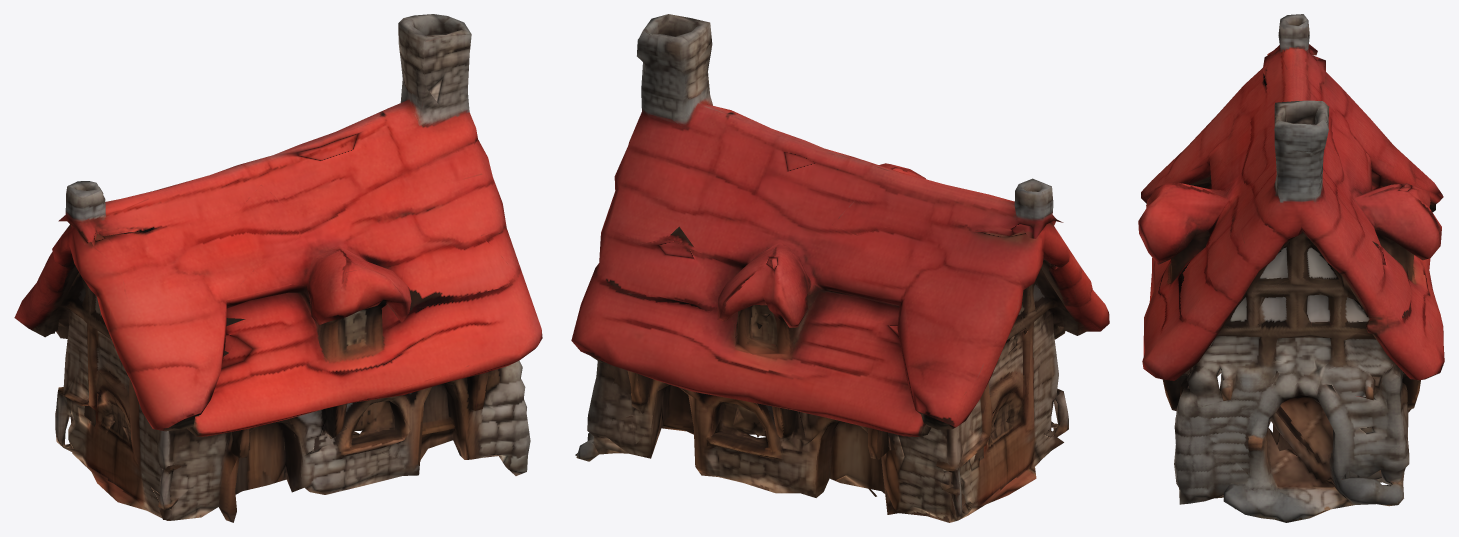
File: house1.glb
3 renders of one model, left to right at view 1: azimuth 30°, elevation 25°; view 2: azimuth 150°, elevation 25°; view 3: azimuth 270°, elevation 25°, orthographic. The views are drawn at different scales.
Parts seen in each view (by area): view 1: geometry_0; view 2: geometry_0; view 3: geometry_0.
Part boxes in pixels (x1,y1,x2,y2): geometry_0: [14, 14, 542, 522]; geometry_0: [571, 14, 1109, 522]; geometry_0: [1138, 14, 1444, 522].
Bounding box in the file's own units: 0.9984 × 0.9192 × 0.6595.
1 material, 1 textured.
